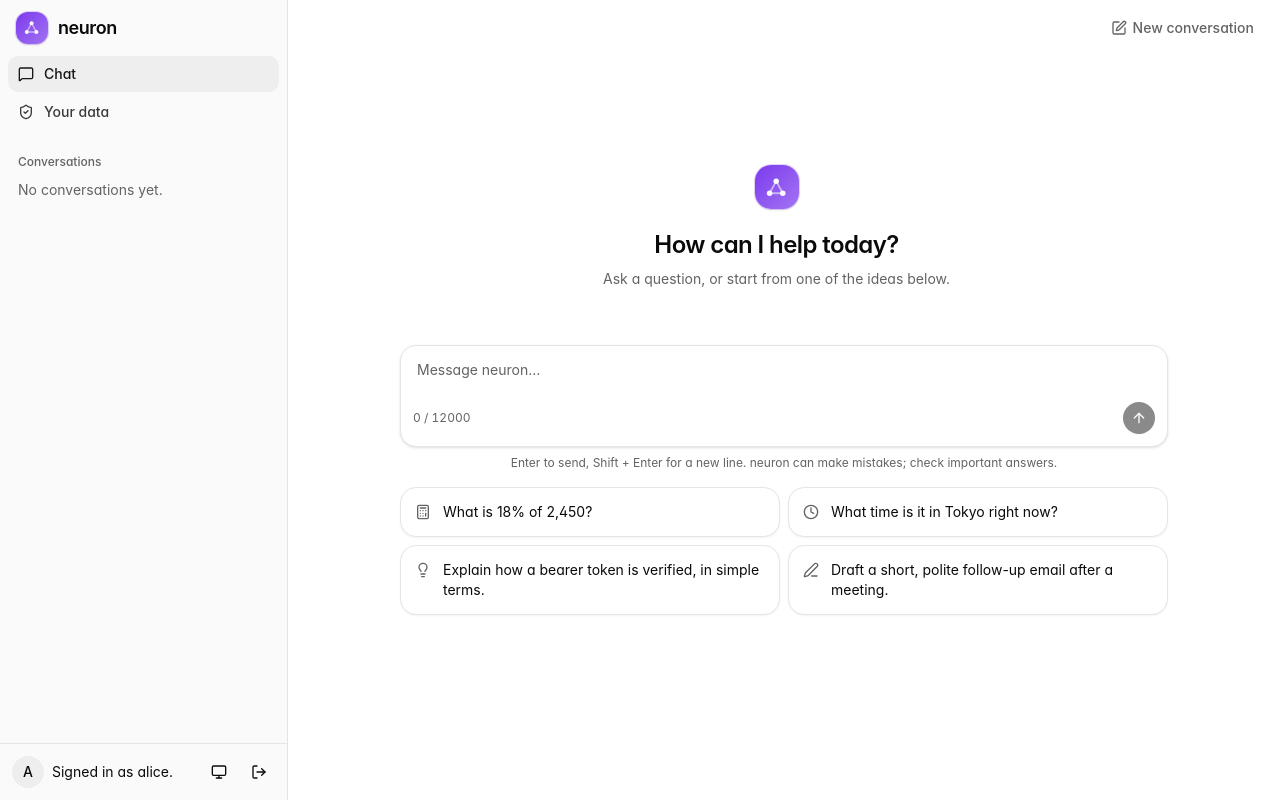
it: SignedInView › lists a new conversation as soon as its first reply finishes
This screenshot has width=1280, height=800.
Check: the text "No conversations yet." is shown, box [18,181,163,198]
Click the text box labelled "Message": (784, 374) [401,346,1167,402]
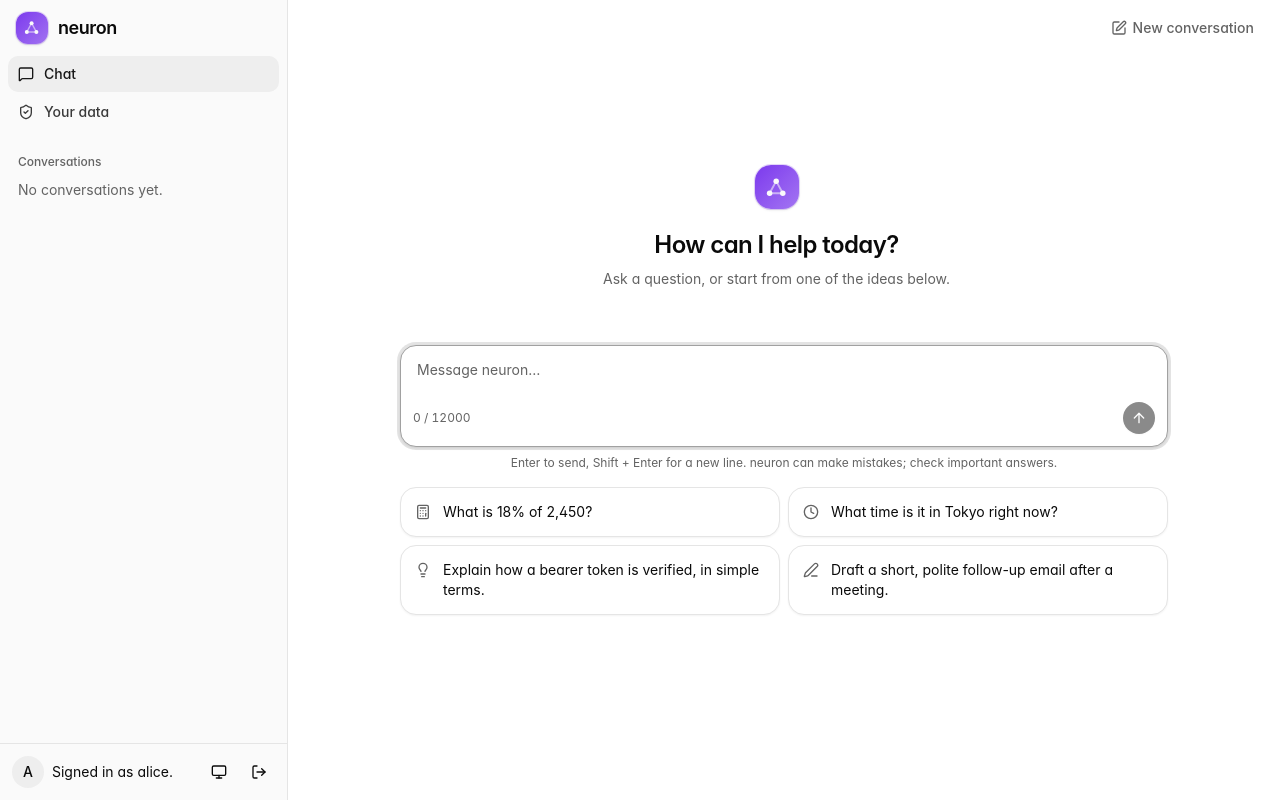
Type keys "hello there"
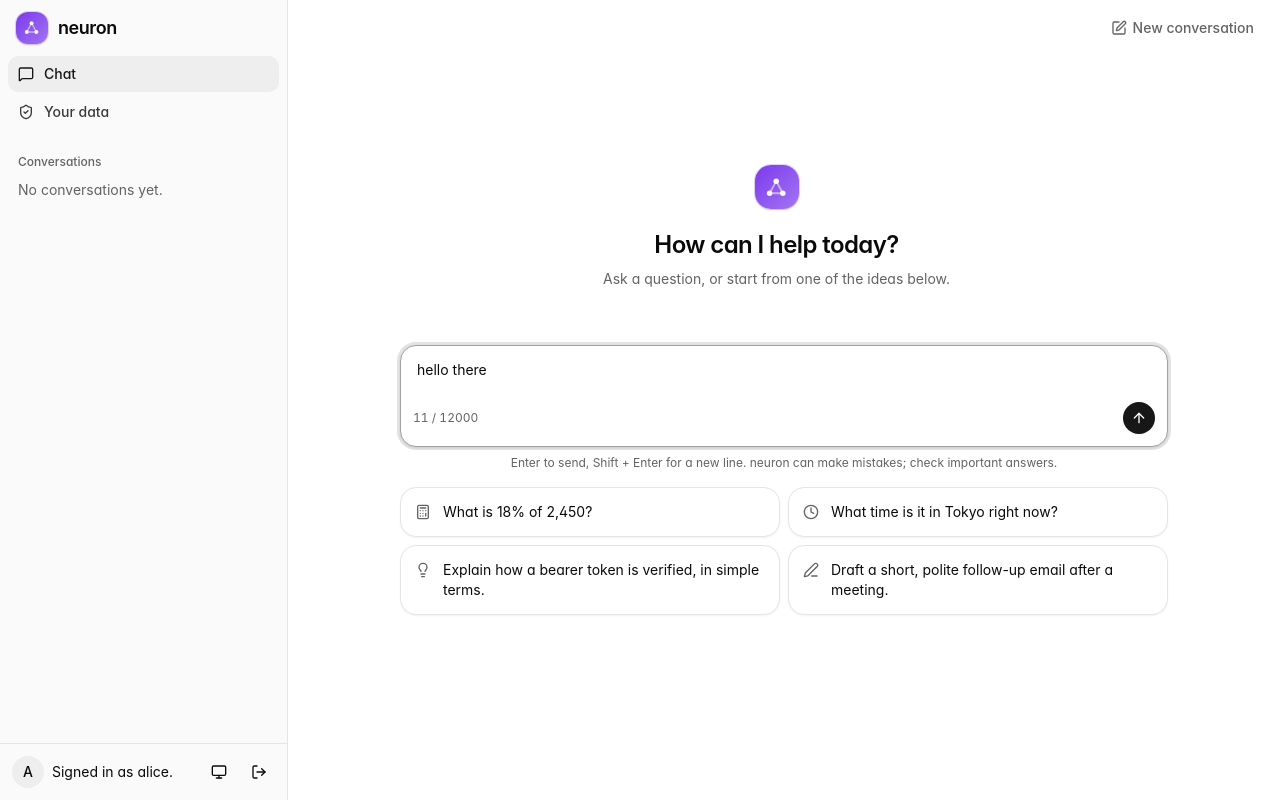
Click the button named "Send": (1139, 418) [1123,402,1155,434]
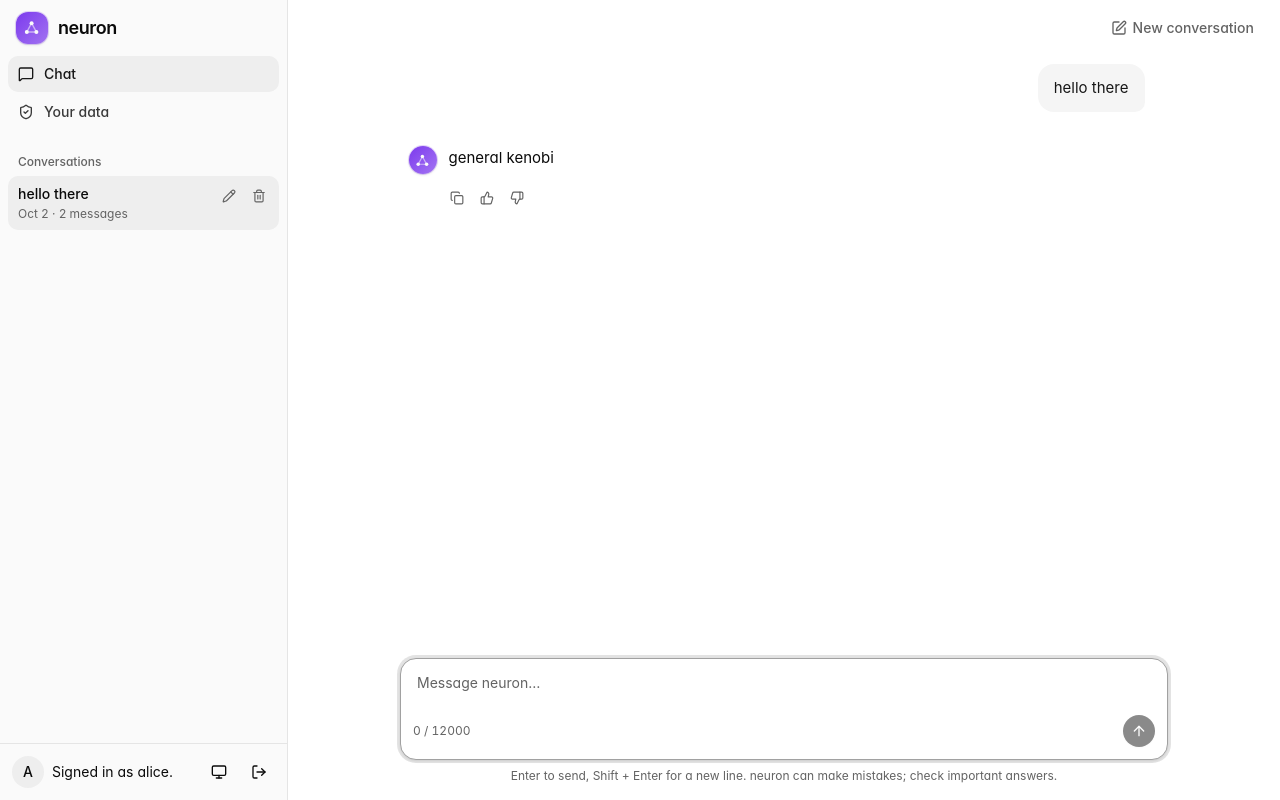
Check: the text "general kenobi" is shown, box [448,148,554,167]
Check: the button named "Rename hello there" is shown, box [215,182,243,210]
Check: the text "No conversations yet." is gone
